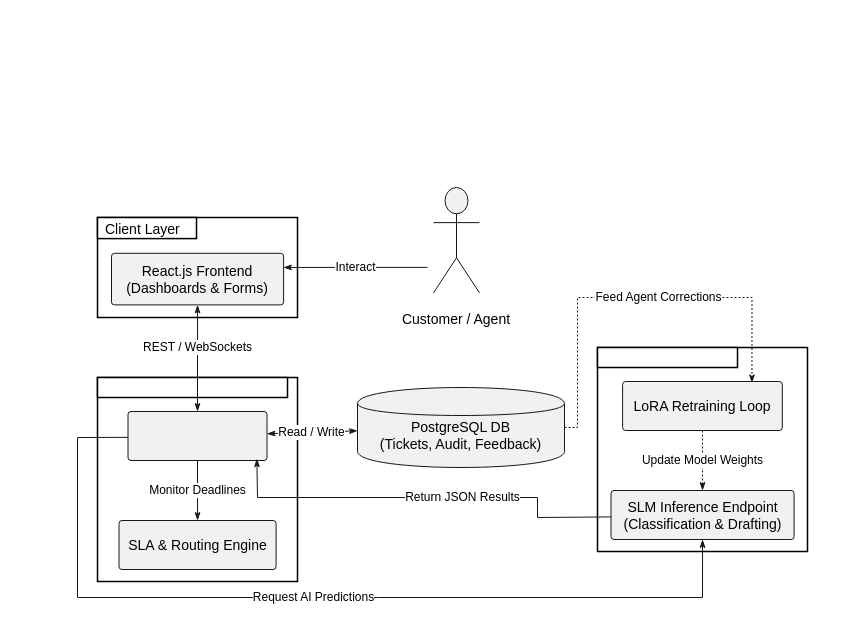
The diagram is 848 pixels wide and 623 high, and some of its shapes have lost their labels. Here are the shapes that lost their labels. From the top down, the box of each, then its label:
(596, 346, 738, 368): In-House AI Pipeline
(96, 376, 288, 398): Application Server (FastAPI)
(127, 410, 267, 460): Core API Gateway
